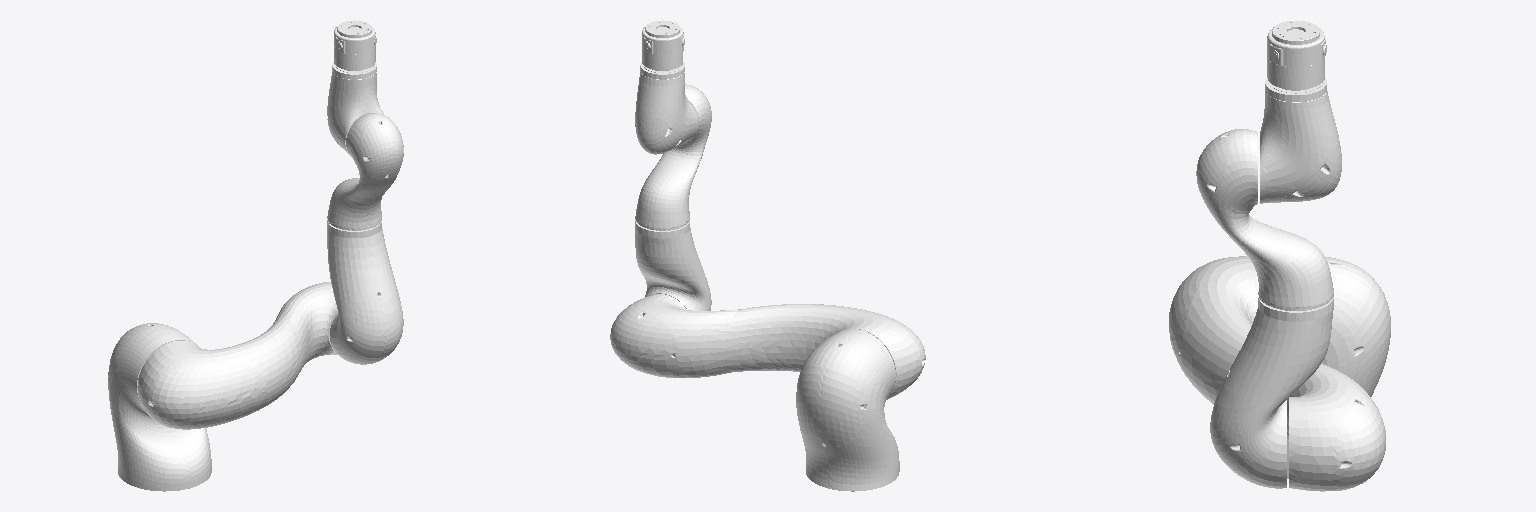
The robot description file, URDF, robot "hsr_co602a_gaihou":
<robot
  name="hsr_co602a_gaihou">
  <link
    name="base_link">
    <inertial>
      <origin
        xyz="-0.0024613 5.2375E-07 0.076752"
        rpy="0 0 0" />
      <mass
        value="4.8818" />
      <inertia
        ixx="0"
        ixy="0"
        ixz="0"
        iyy="0"
        iyz="0"
        izz="0" />
    </inertial>
    <visual>
      <origin
        xyz="0 0 0"
        rpy="0 0 0" />
      <geometry>
        <mesh
          filename="package://hsr_co602a_gaihou/meshes/base_link.STL" />
      </geometry>
      <material
        name="">
        <color
          rgba="1 1 1 1" />
      </material>
    </visual>
    <collision>
      <origin
        xyz="0 0 0"
        rpy="0 0 0" />
      <geometry>
        <mesh
          filename="package://hsr_co602a_gaihou/meshes/base_link.STL" />
      </geometry>
    </collision>
  </link>
  <link
    name="Link1">
    <inertial>
      <origin
        xyz="-3.5083E-06 -0.029409 0.065583"
        rpy="0 0 0" />
      <mass
        value="4.9043" />
      <inertia
        ixx="0"
        ixy="0"
        ixz="0"
        iyy="0"
        iyz="0"
        izz="0" />
    </inertial>
    <visual>
      <origin
        xyz="0 0 0"
        rpy="0 0 0" />
      <geometry>
        <mesh
          filename="package://hsr_co602a_gaihou/meshes/Link1.STL" />
      </geometry>
      <material
        name="">
        <color
          rgba="1 1 1 1" />
      </material>
    </visual>
    <collision>
      <origin
        xyz="0 0 0"
        rpy="0 0 0" />
      <geometry>
        <mesh
          filename="package://hsr_co602a_gaihou/meshes/Link1.STL" />
      </geometry>
    </collision>
  </link>
  <joint
    name="joint1"
    type="revolute">
    <origin
      xyz="0 0 0.3517"
      rpy="3.1416 0 -8.3267E-17" />
    <parent
      link="base_link" />
    <child
      link="Link1" />
    <axis
      xyz="0 0 -1" />
    <limit
      lower="-1.57"
      upper="1.57"
      effort="3"
      velocity="26" />
    <safety_controller
      soft_upper="1.57"
      soft_lower="-1.57"
      k_position="6"
      k_velocity="10" />
  </joint>
  <link
    name="Link2">
    <inertial>
      <origin
        xyz="4.8764E-06 -0.17949 -0.038569"
        rpy="0 0 0" />
      <mass
        value="6.5305" />
      <inertia
        ixx="0"
        ixy="0"
        ixz="0"
        iyy="0"
        iyz="0"
        izz="0" />
    </inertial>
    <visual>
      <origin
        xyz="0 0 0"
        rpy="0 0 0" />
      <geometry>
        <mesh
          filename="package://hsr_co602a_gaihou/meshes/Link2.STL" />
      </geometry>
      <material
        name="">
        <color
          rgba="1 1 1 1" />
      </material>
    </visual>
    <collision>
      <origin
        xyz="0 0 0"
        rpy="0 0 0" />
      <geometry>
        <mesh
          filename="package://hsr_co602a_gaihou/meshes/Link2.STL" />
      </geometry>
    </collision>
  </link>
  <joint
    name="joint2"
    type="revolute">
    <origin
      xyz="0 0 0"
      rpy="1.5708 -1.5708 0" />
    <parent
      link="Link1" />
    <child
      link="Link2" />
    <axis
      xyz="0 0 -1" />
    <limit
      lower="-1.57"
      upper="1.57"
      effort="3"
      velocity="26" />
    <safety_controller
      soft_upper="1.57"
      soft_lower="-1.57"
      k_position="6"
      k_velocity="10" />
  </joint>
  <link
    name="Link3">
    <inertial>
      <origin
        xyz="-4.0966E-05 -0.085254 -0.035956"
        rpy="0 0 0" />
      <mass
        value="2.3223" />
      <inertia
        ixx="0"
        ixy="0"
        ixz="0"
        iyy="0"
        iyz="0"
        izz="0" />
    </inertial>
    <visual>
      <origin
        xyz="0 0 0"
        rpy="0 0 0" />
      <geometry>
        <mesh
          filename="package://hsr_co602a_gaihou/meshes/Link3.STL" />
      </geometry>
      <material
        name="">
        <color
          rgba="1 1 1 1" />
      </material>
    </visual>
    <collision>
      <origin
        xyz="0 0 0"
        rpy="0 0 0" />
      <geometry>
        <mesh
          filename="package://hsr_co602a_gaihou/meshes/Link3.STL" />
      </geometry>
    </collision>
  </link>
  <joint
    name="joint3"
    type="revolute">
    <origin
      xyz="0 -0.40061 0"
      rpy="-3.688E-17 1.4367E-17 -1.5708" />
    <parent
      link="Link2" />
    <child
      link="Link3" />
    <axis
      xyz="0 0 -1" />
    <limit
      lower="-1.57"
      upper="1.57"
      effort="3"
      velocity="26" />
    <safety_controller
      soft_upper="1.57"
      soft_lower="-1.57"
      k_position="6"
      k_velocity="10" />
  </joint>
  <link
    name="Link4">
    <inertial>
      <origin
        xyz="0.049764 2.8231E-06 0.32133"
        rpy="0 0 0" />
      <mass
        value="1.2629" />
      <inertia
        ixx="0"
        ixy="0"
        ixz="0"
        iyy="0"
        iyz="0"
        izz="0" />
    </inertial>
    <visual>
      <origin
        xyz="0 0 0"
        rpy="0 0 0" />
      <geometry>
        <mesh
          filename="package://hsr_co602a_gaihou/meshes/Link4.STL" />
      </geometry>
      <material
        name="">
        <color
          rgba="1 1 1 1" />
      </material>
    </visual>
    <collision>
      <origin
        xyz="0 0 0"
        rpy="0 0 0" />
      <geometry>
        <mesh
          filename="package://hsr_co602a_gaihou/meshes/Link4.STL" />
      </geometry>
    </collision>
  </link>
  <joint
    name="joint4"
    type="revolute">
    <origin
      xyz="0 -0.0023254 0"
      rpy="1.2216 1.5708 -0.34916" />
    <parent
      link="Link3" />
    <child
      link="Link4" />
    <axis
      xyz="0 0 1" />
    <limit
      lower="-1.57"
      upper="1.57"
      effort="3"
      velocity="26" />
    <safety_controller
      soft_upper="1.57"
      soft_lower="-1.57"
      k_position="6"
      k_velocity="10" />
  </joint>
  <link
    name="Link5">
    <inertial>
      <origin
        xyz="1.3212E-06 -0.042021 0.0022165"
        rpy="0 0 0" />
      <mass
        value="1.1452" />
      <inertia
        ixx="0"
        ixy="0"
        ixz="0"
        iyy="0"
        iyz="0"
        izz="0" />
    </inertial>
    <visual>
      <origin
        xyz="0 0 0"
        rpy="0 0 0" />
      <geometry>
        <mesh
          filename="package://hsr_co602a_gaihou/meshes/Link5.STL" />
      </geometry>
      <material
        name="">
        <color
          rgba="1 1 1 1" />
      </material>
    </visual>
    <collision>
      <origin
        xyz="0 0 0"
        rpy="0 0 0" />
      <geometry>
        <mesh
          filename="package://hsr_co602a_gaihou/meshes/Link5.STL" />
      </geometry>
    </collision>
  </link>
  <joint
    name="joint5"
    type="revolute">
    <origin
      xyz="0 0 0.39859"
      rpy="-1.5708 -1.4529E-17 1.5708" />
    <parent
      link="Link4" />
    <child
      link="Link5" />
    <axis
      xyz="0 0 -1" />
    <limit
      lower="-1.57"
      upper="1.57"
      effort="3"
      velocity="26" />
    <safety_controller
      soft_upper="1.57"
      soft_lower="-1.57"
      k_position="6"
      k_velocity="10" />
  </joint>
  <link
    name="Link6">
    <inertial>
      <origin
        xyz="3.5784E-05 -3.8806E-05 -0.025197"
        rpy="0 0 0" />
      <mass
        value="0.20458" />
      <inertia
        ixx="0"
        ixy="0"
        ixz="0"
        iyy="0"
        iyz="0"
        izz="0" />
    </inertial>
    <visual>
      <origin
        xyz="0 0 0"
        rpy="0 0 0" />
      <geometry>
        <mesh
          filename="package://hsr_co602a_gaihou/meshes/Link6.STL" />
      </geometry>
      <material
        name="">
        <color
          rgba="1 1 1 1" />
      </material>
    </visual>
    <collision>
      <origin
        xyz="0 0 0"
        rpy="0 0 0" />
      <geometry>
        <mesh
          filename="package://hsr_co602a_gaihou/meshes/Link6.STL" />
      </geometry>
    </collision>
  </link>
  <joint
    name="joint6"
    type="revolute">
    <origin
      xyz="0 -0.20056 0"
      rpy="-1.5708 2.4478E-17 -3.1416" />
    <parent
      link="Link5" />
    <child
      link="Link6" />
    <axis
      xyz="0 0 -1" />
    <limit
      lower="-1.57"
      upper="1.57"
      effort="3"
      velocity="26" />
    <safety_controller
      soft_upper="1.57"
      soft_lower="-1.57"
      k_position="6"
      k_velocity="10" />
  </joint>
</robot>

--- Render facts (derived) ---
The picture shows the robot from 3 angles, left to right: view 1: azimuth 30°, elevation 25°; view 2: azimuth 150°, elevation 25°; view 3: azimuth 270°, elevation 25°; orthographic projection.
Robot: hsr_co602a_gaihou — 7 links, 6 joints (6 revolute); root link base_link; default pose: every joint at zero.
Links seen in each view (by area): view 1: Link2, Link1, Link3, Link4, Link5, Link6; view 2: Link2, Link1, Link4, Link3, Link5, Link6; view 3: Link2, Link3, Link4, Link5, Link1, Link6.
Link boxes in pixels (x1,y1,x2,y2): Link2: [137, 282, 337, 429]; Link1: [108, 323, 211, 491]; Link3: [327, 220, 403, 364]; Link4: [327, 113, 403, 230]; Link5: [327, 62, 383, 154]; Link6: [334, 20, 376, 70]; Link2: [610, 294, 925, 399]; Link1: [796, 329, 899, 491]; Link4: [635, 84, 711, 230]; Link3: [635, 220, 711, 310]; Link5: [635, 62, 697, 154]; Link6: [642, 20, 684, 70]; Link2: [1169, 256, 1385, 491]; Link3: [1210, 297, 1333, 488]; Link4: [1196, 129, 1333, 310]; Link5: [1260, 78, 1341, 203]; Link1: [1287, 257, 1390, 478]; Link6: [1267, 20, 1326, 89].
Size in the robot's own frame: 0.5615 by 0.2939 by 0.8015 metres.
Meshes: 7 distinct files referenced, 6 mesh visuals loaded (6 binary STL); not drawn: 1 (reference not matched to a file when rendering).